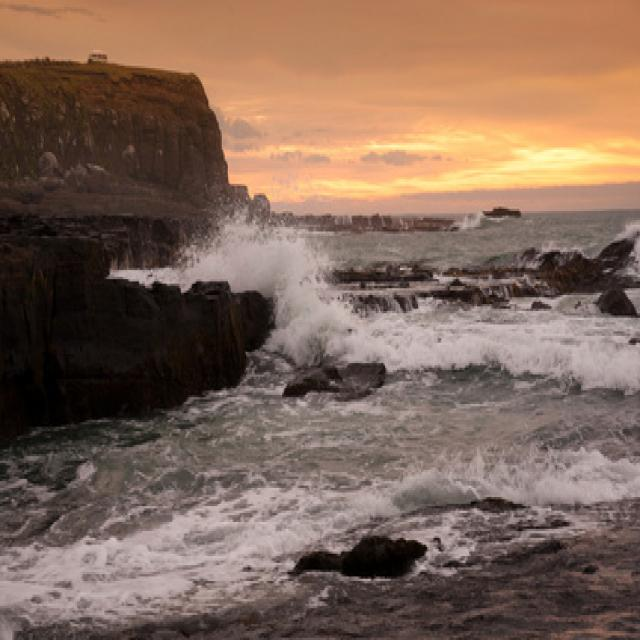reef: (312, 193, 640, 322)
